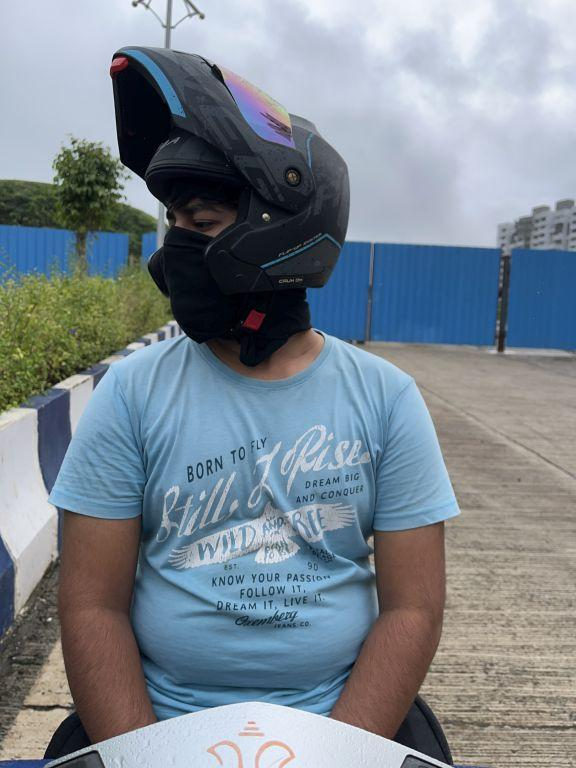helmet: (105, 32, 357, 364)
